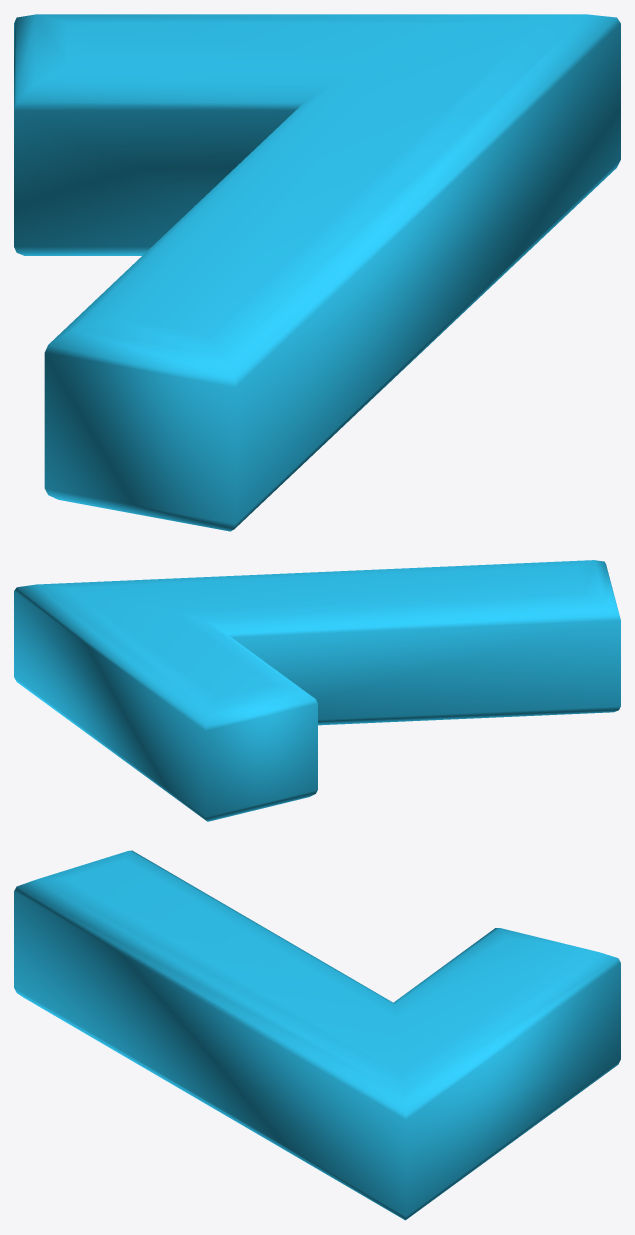
Rendered from Toy89.fbx.
The picture shows the model from 3 angles, top to bottom: view 1: azimuth 30°, elevation 25°; view 2: azimuth 150°, elevation 25°; view 3: azimuth 270°, elevation 25°; orthographic projection. The views are drawn at different scales.
Visible parts, largest first — view 1: Toy89; view 2: Toy89; view 3: Toy89.
Boxes of the visible parts, x1,y1,x2,y2 form: Toy89: (14,14,620,531); Toy89: (14,560,620,821); Toy89: (14,850,620,1220).
Bounding box in the file's own units: 0.1684 × 0.0378 × 0.1625.
